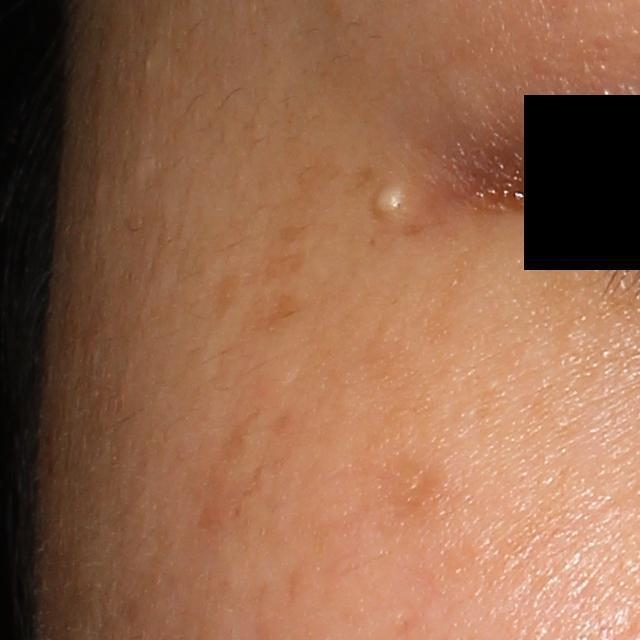melasma: (201, 414, 260, 522), (381, 448, 445, 532), (292, 154, 340, 205), (247, 286, 303, 327)
other: (362, 172, 422, 229)
